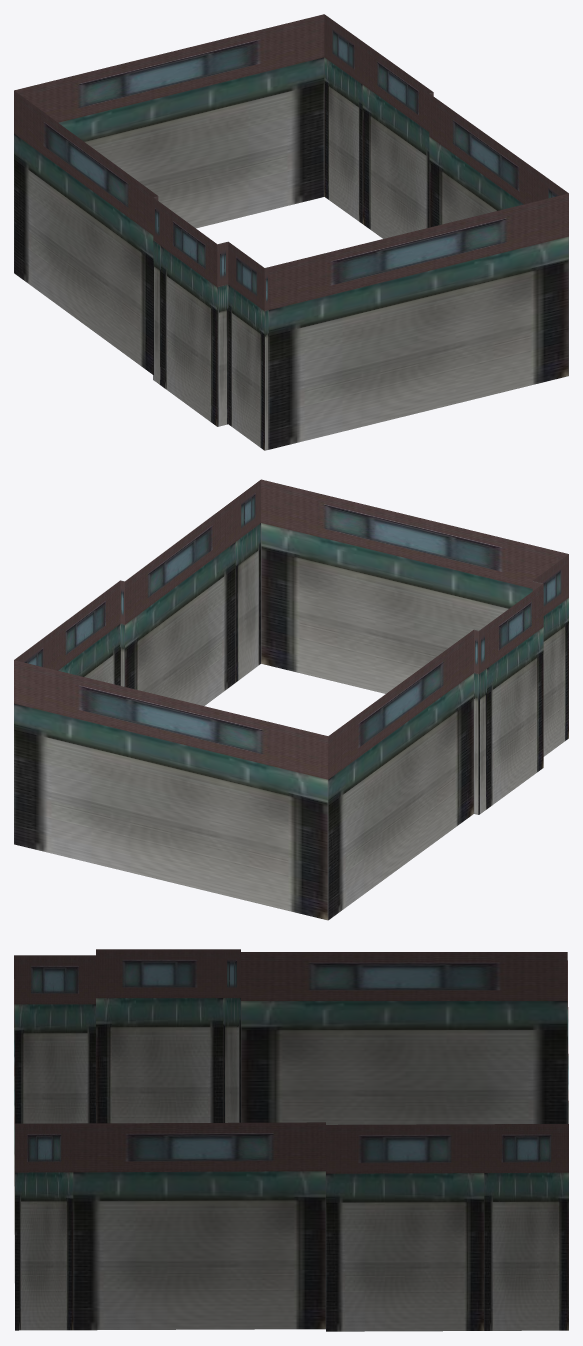
The model's file is building.obj.
The picture shows the model from 3 angles, top to bottom: view 1: azimuth 30°, elevation 25°; view 2: azimuth 150°, elevation 25°; view 3: azimuth 270°, elevation 25°; orthographic projection. The views are drawn at different scales.
Visible parts, largest first — view 1: TaipeiGovBuilding_854014; view 2: TaipeiGovBuilding_854014; view 3: TaipeiGovBuilding_854014.
Part boxes in pixels (x1,y1,x2,y2): TaipeiGovBuilding_854014: (14, 14, 568, 450); TaipeiGovBuilding_854014: (14, 479, 568, 920); TaipeiGovBuilding_854014: (14, 949, 568, 1331).
Size of the model in its own units: 7.86 by 4.32 by 10.51.
1 material, 1 textured.
